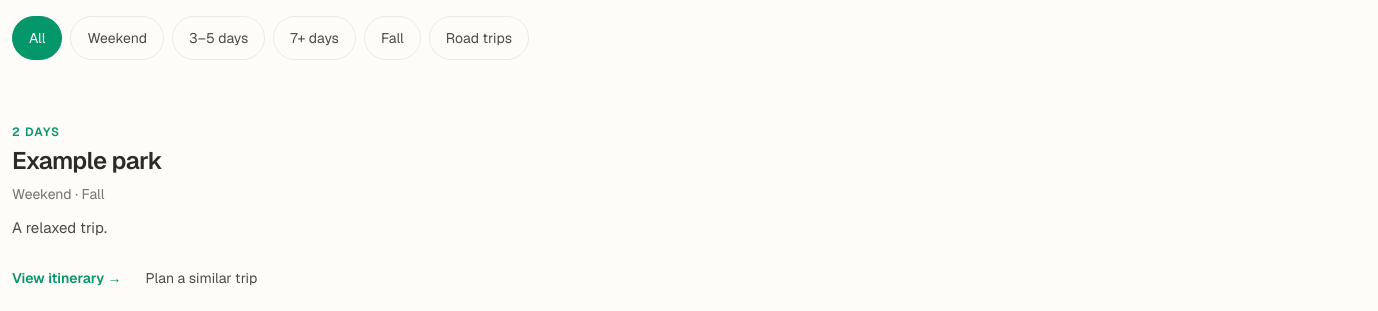
public itinerary library › filters without turning unavailable results into fake itinerary links
Step 1. Click the button "7+ days" → (315, 38), box [273,16,356,60]
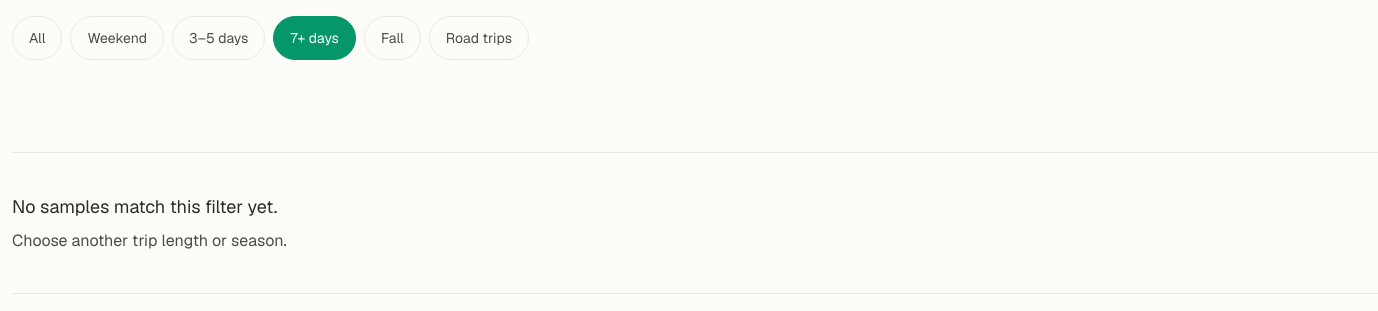
Check: the link "View itinerary →" is gone
Step 2. Click the button "Fall" → (392, 38), box [364,16,421,60]
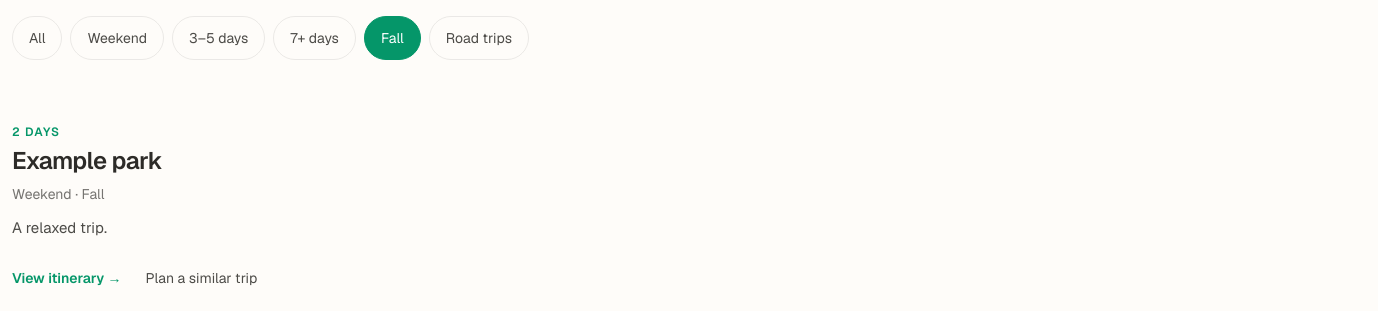
Check: the link "View itinerary →" is shown, box [12,269,122,287]
